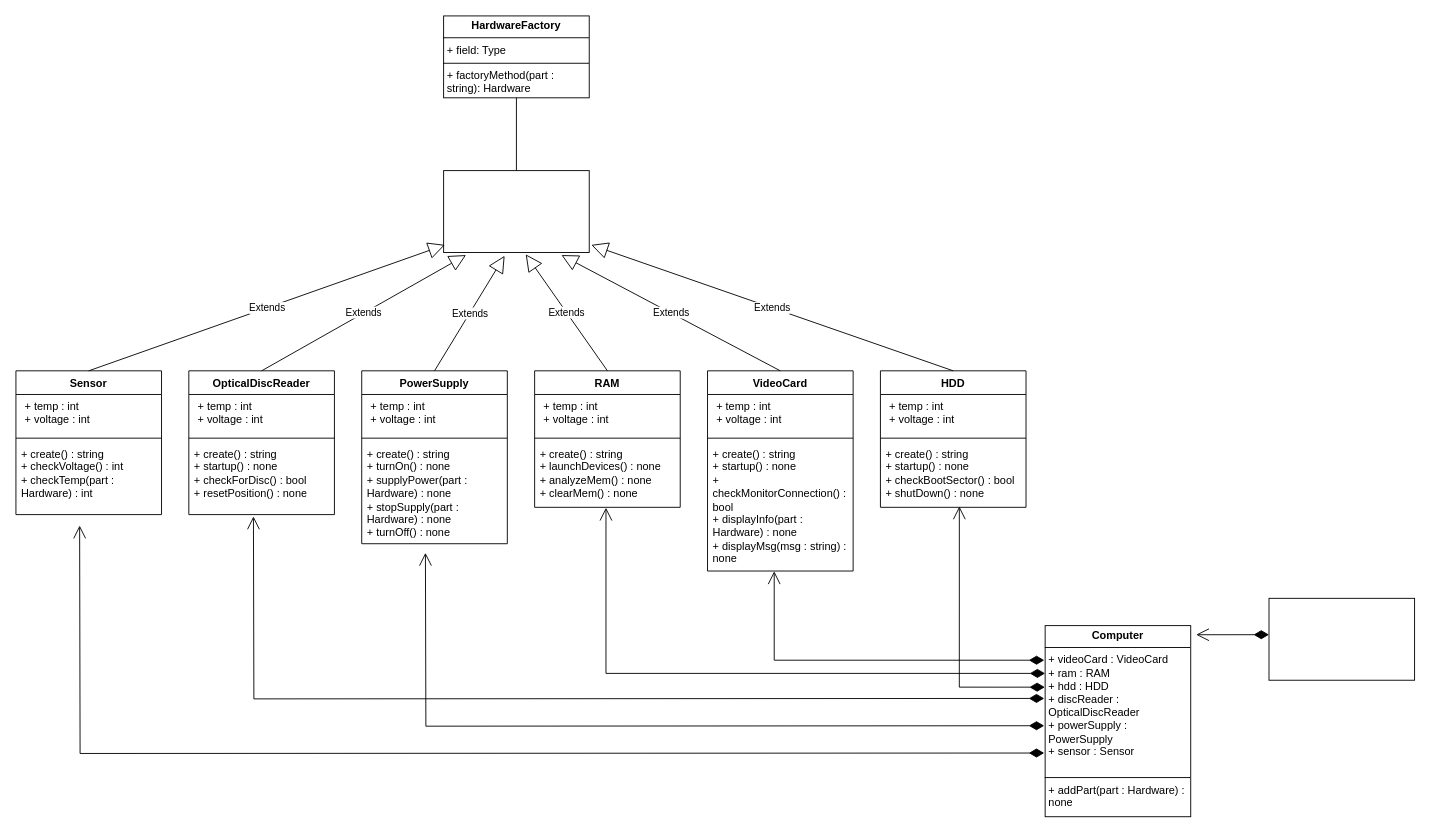
Image size: 1431x833. Some labels were removed from this diagram. Each missing label, with the centre of its shape:
"ComputerManager - computer : Computer + beginWork() : none + turnOff() : none" belongs at (1341,638).
"Hardware + temp : int + voltage : int + Create() : string" belongs at (516,211).
